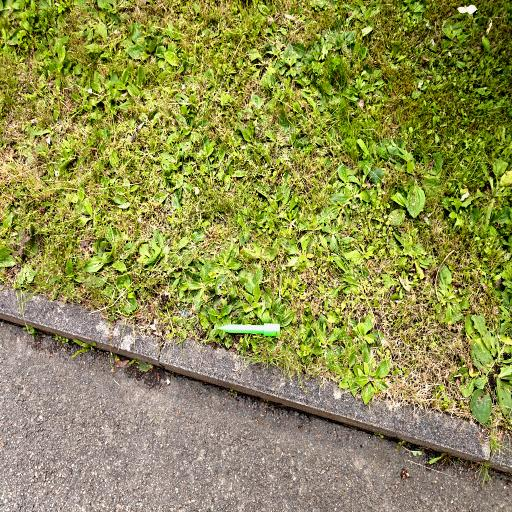Probe-Detection: (218, 323, 280, 336)
